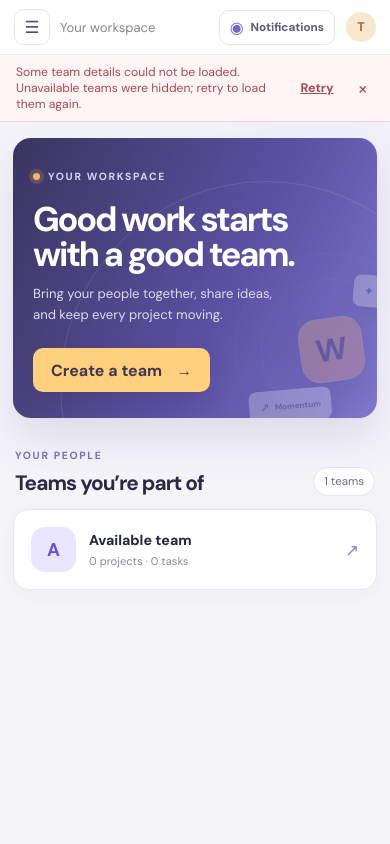
Test: App workspace loading › opens the mobile navigation drawer and closes it with Escape
Click the button named "Open navigation menu" at (32, 27), box [14,9,50,45]
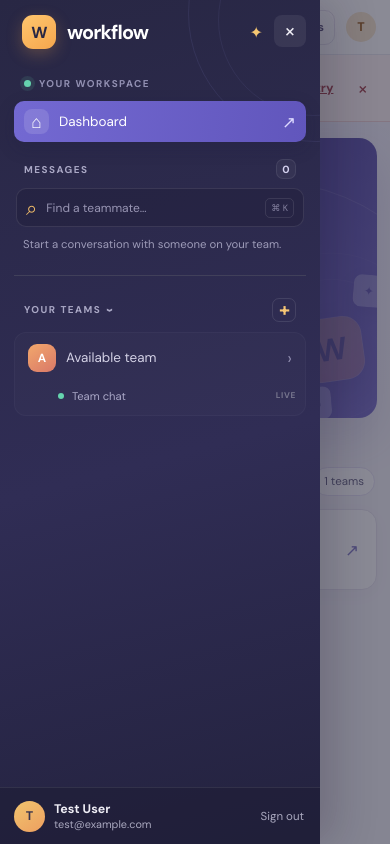
Expected: the button named "Open navigation menu" is expanded, [14,9,50,45]
Expected: the button named "Close navigation menu" is shown, [274,15,306,47]
Press Escape
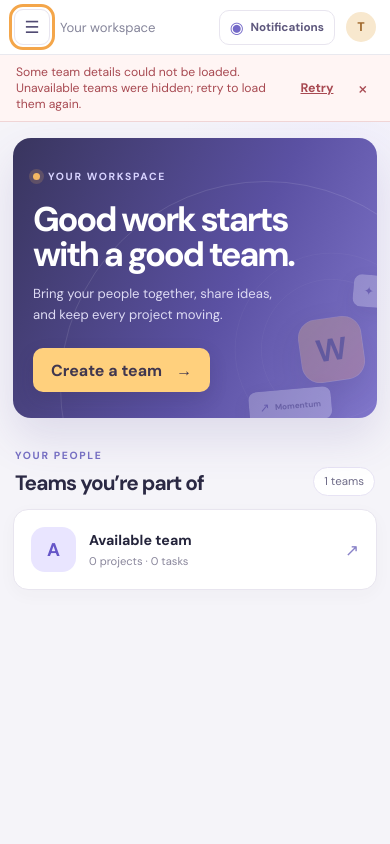
Expected: the button named "Open navigation menu" is collapsed, [14,9,50,45]
